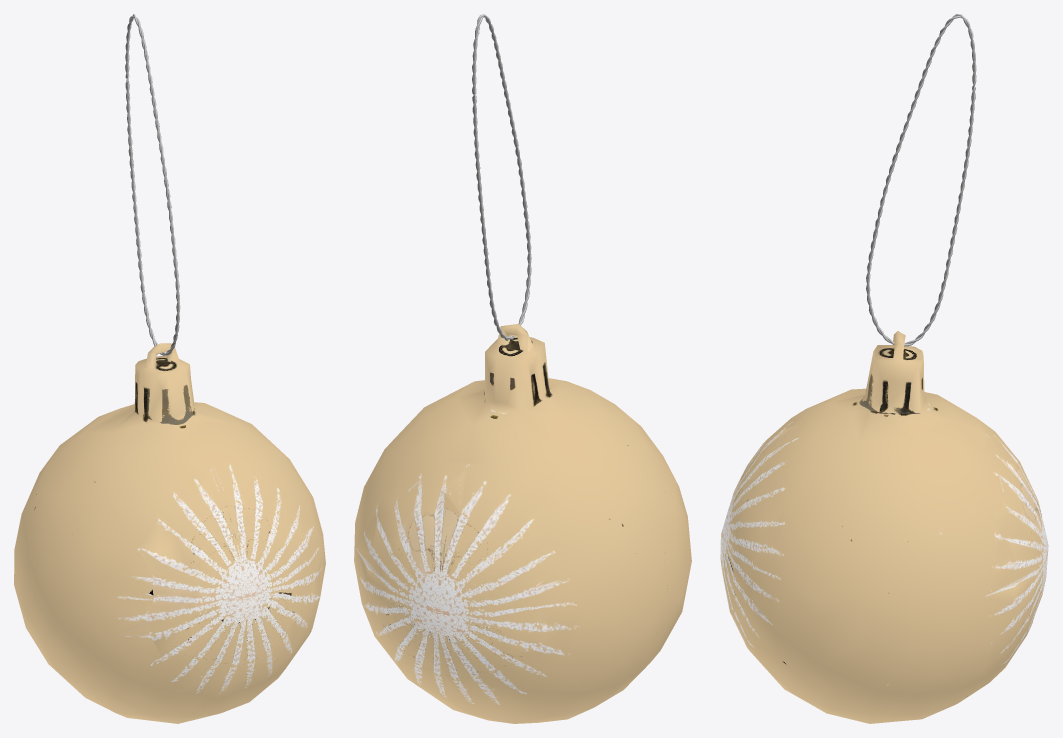
File: Sunburst_Gold_Orb.glb
3 renders of one model, left to right at view 1: azimuth 30°, elevation 25°; view 2: azimuth 150°, elevation 25°; view 3: azimuth 270°, elevation 25°, orthographic. The views are drawn at different scales.
Parts seen in each view (by area): view 1: Mesh1.0, GN Instance; view 2: Mesh1.0, GN Instance; view 3: Mesh1.0, GN Instance.
Part boxes in pixels (bbox=[...]): Mesh1.0: bbox=[14, 343, 325, 723]; GN Instance: bbox=[125, 14, 180, 355]; Mesh1.0: bbox=[354, 324, 691, 723]; GN Instance: bbox=[472, 14, 531, 340]; Mesh1.0: bbox=[720, 331, 1048, 723]; GN Instance: bbox=[866, 14, 976, 346].
Size of the model in its own units: 0.0545 by 0.1295 by 0.0555.
Materials: 2 (1 with a texture image).
